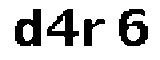4: (47, 7, 83, 50)
6: (115, 4, 153, 52)
d: (11, 5, 44, 52)
r: (82, 16, 107, 50)
